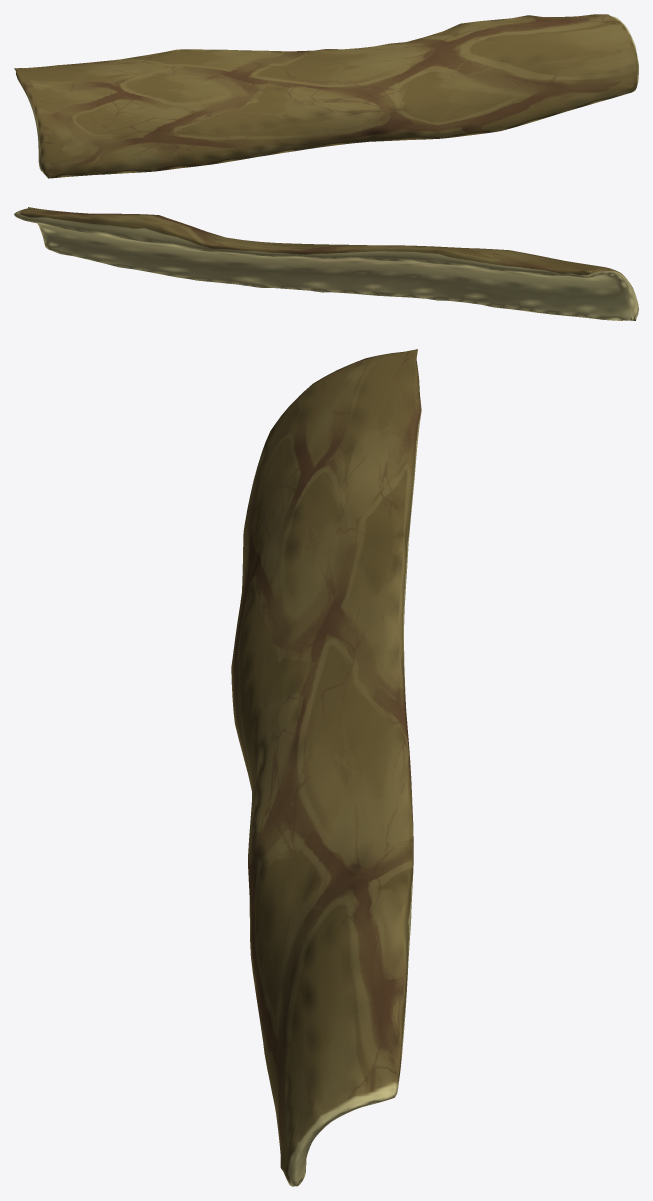
Rendered from log1_4.fbx.
3 renders of one model, top to bottom at view 1: azimuth 30°, elevation 25°; view 2: azimuth 150°, elevation 25°; view 3: azimuth 270°, elevation 25°, orthographic. The views are drawn at different scales.
Visible parts, largest first — view 1: polySurface7; view 2: polySurface7; view 3: polySurface7.
Part boxes in pixels (bbox=[...]): polySurface7: bbox=[14, 14, 638, 178]; polySurface7: bbox=[14, 207, 638, 320]; polySurface7: bbox=[231, 349, 421, 1186].
Size of the model in its own units: 814 by 183 by 113.
Materials: 1 (1 with a texture image).
